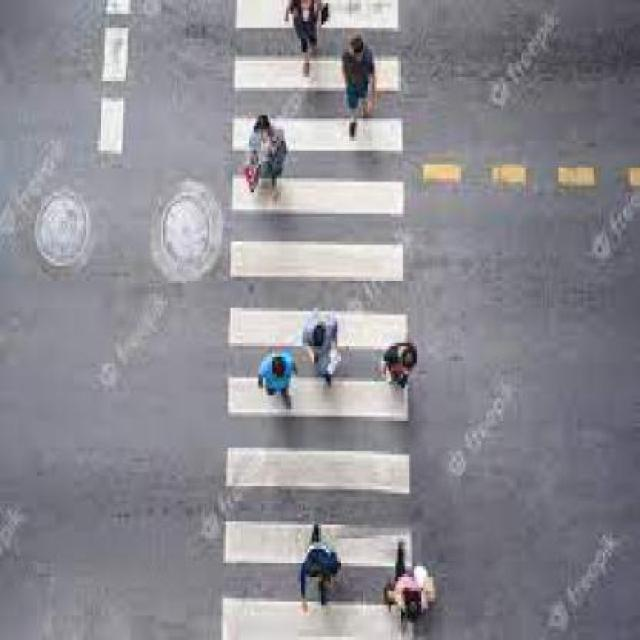intact_crosswalk: (221, 0, 411, 639)
